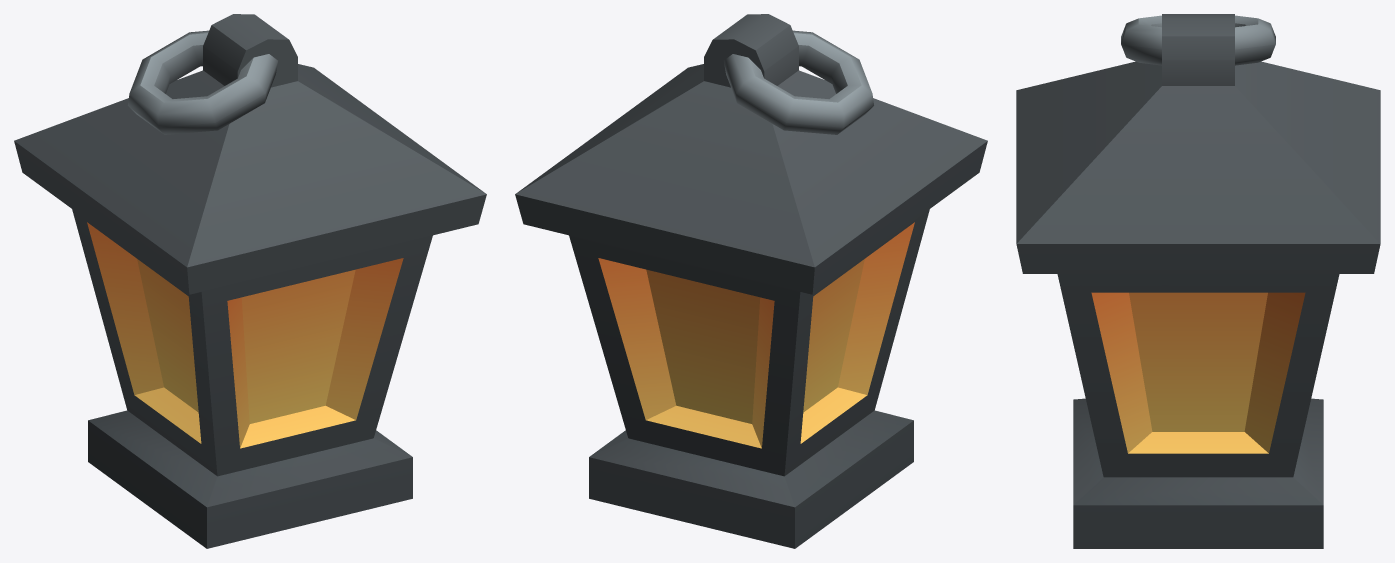
File: lantern_standing.glb
The picture shows the model from 3 angles, left to right: view 1: azimuth 30°, elevation 25°; view 2: azimuth 150°, elevation 25°; view 3: azimuth 270°, elevation 25°; orthographic projection. The views are drawn at different scales.
Parts seen in each view (by area): view 1: lantern_standing; view 2: lantern_standing; view 3: lantern_standing.
Boxes of the visible parts, box(x1,y1,x2,y2) form: lantern_standing: box(14, 14, 486, 548); lantern_standing: box(515, 14, 987, 548); lantern_standing: box(1016, 14, 1380, 548).
Size of the model in its own units: 0.64 by 0.9252 by 0.64.
1 material, 1 textured.
